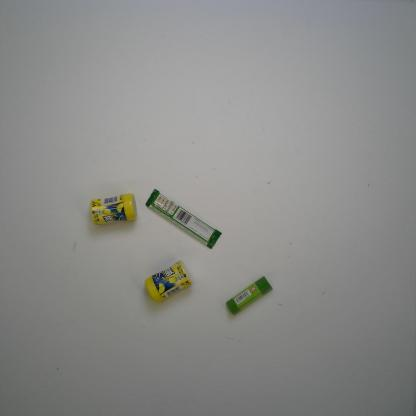Chocolate: (144, 188, 224, 250)
Gum: (142, 258, 194, 306), (91, 191, 139, 227)
Stationery: (225, 274, 274, 317)
